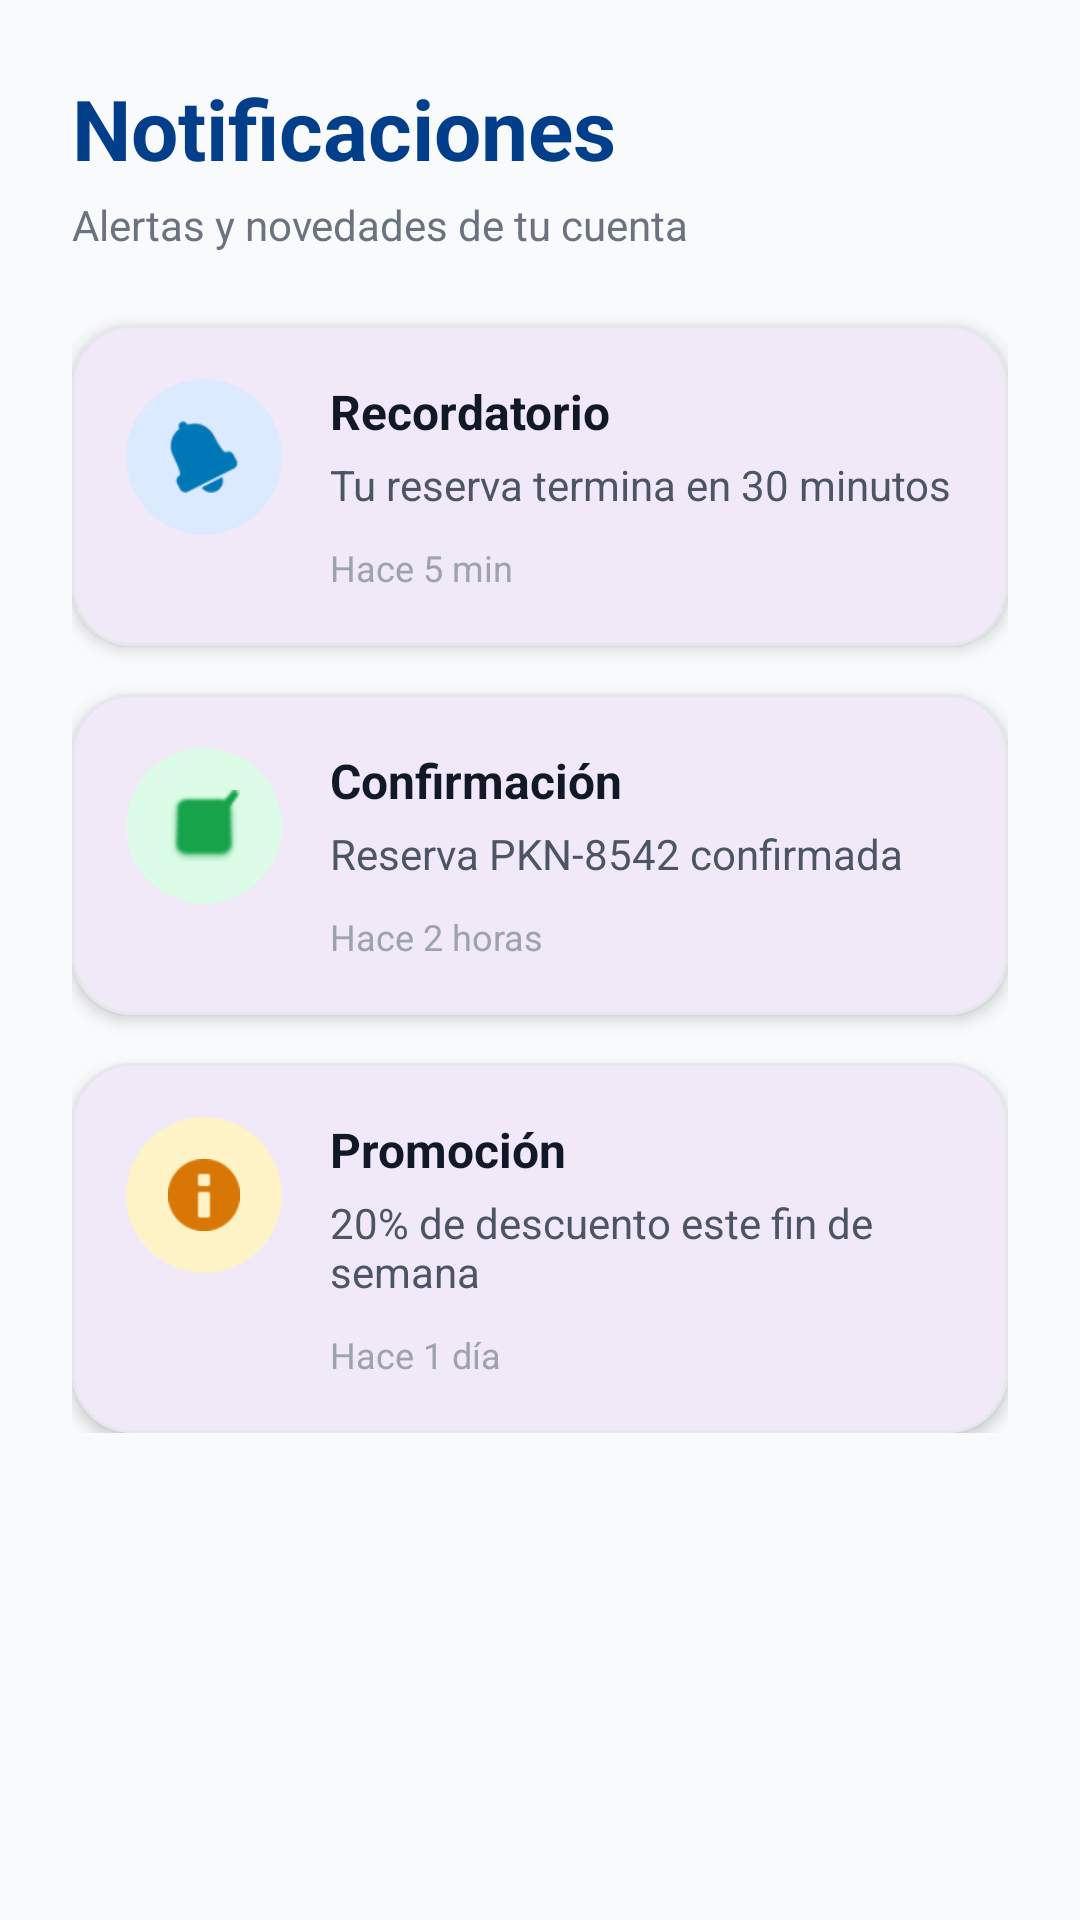

Icons on this 1080×1920 Android screen, each with the point to tap as [x,y]:
info: [204,1195]
popup reminder: [204,457]
